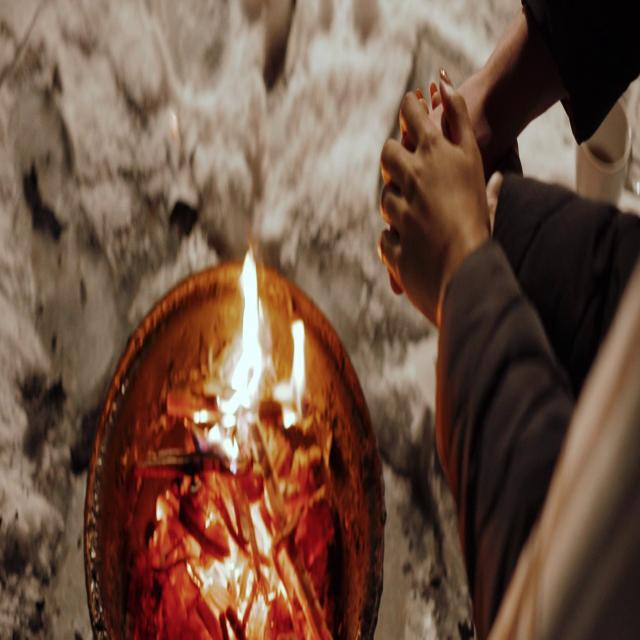Fire: (190, 233, 322, 633)
